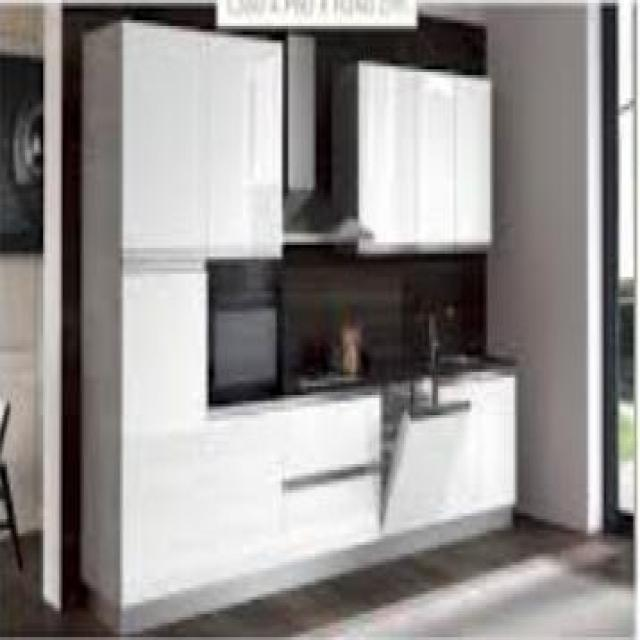dishwasher: (379, 374, 474, 528)
